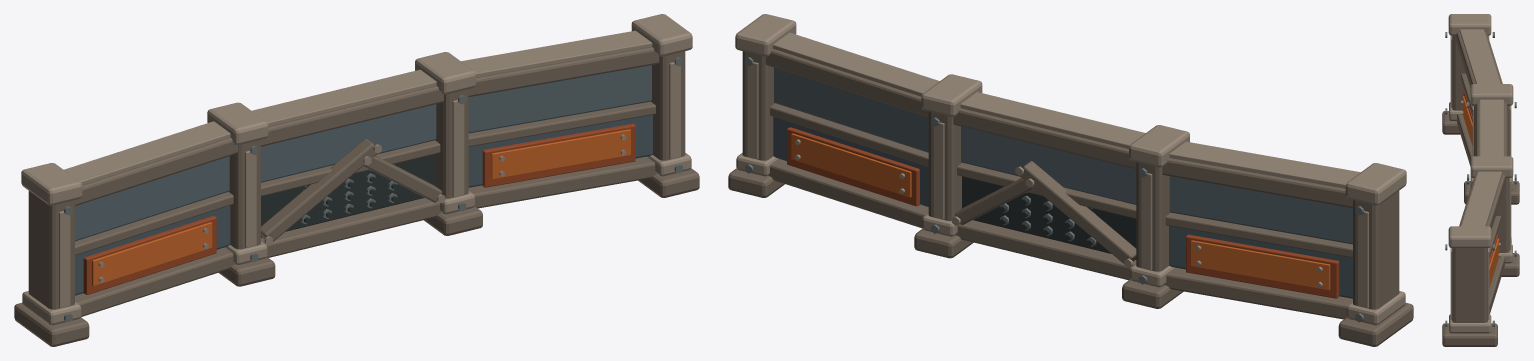
The model's file is wsc-prop-067-low-segmented-metal-barrier.glb.
3 views of the same model, side by side, from view 1: azimuth 30°, elevation 25°; view 2: azimuth 150°, elevation 25°; view 3: azimuth 270°, elevation 25° (orthographic). The views are drawn at different scales.
Parts seen in each view (by area): view 1: Warm aged gunmetal, Steel edge burnish, Pressed blue panel, Weathered orange enamel, Burnt orange edge, Shadow graphite, Dark grey blue plated steel, Galvanized bracing; view 2: Warm aged gunmetal, Steel edge burnish, Pressed blue panel, Weathered orange enamel, Burnt orange edge, Shadow graphite, Dark grey blue plated steel, Galvanized bracing; view 3: Steel edge burnish, Warm aged gunmetal, Weathered orange enamel, Galvanized bracing, Burnt orange edge.
Boxes of the visible parts, bbox=[...] form: Warm aged gunmetal: bbox=[14, 47, 699, 346]; Steel edge burnish: bbox=[21, 14, 692, 325]; Pressed blue panel: bbox=[75, 65, 651, 241]; Weathered orange enamel: bbox=[92, 129, 630, 286]; Burnt orange edge: bbox=[83, 123, 635, 294]; Shadow graphite: bbox=[261, 154, 435, 237]; Dark grey blue plated steel: bbox=[75, 115, 652, 295]; Galvanized bracing: bbox=[64, 57, 682, 322]; Warm aged gunmetal: bbox=[728, 49, 1413, 346]; Steel edge burnish: bbox=[735, 14, 1406, 325]; Pressed blue panel: bbox=[774, 67, 1352, 244]; Weathered orange enamel: bbox=[791, 133, 1330, 290]; Burnt orange edge: bbox=[787, 127, 1339, 298]; Shadow graphite: bbox=[962, 176, 1136, 259]; Dark grey blue plated steel: bbox=[773, 117, 1352, 298]; Galvanized bracing: bbox=[745, 57, 1363, 322]; Steel edge burnish: bbox=[1448, 14, 1513, 333]; Warm aged gunmetal: bbox=[1442, 32, 1519, 346]; Weathered orange enamel: bbox=[1462, 96, 1499, 287]; Galvanized bracing: bbox=[1445, 32, 1516, 326]; Burnt orange edge: bbox=[1463, 92, 1498, 264].
Size of the model in its own units: 4.13 by 0.9385 by 0.598.
